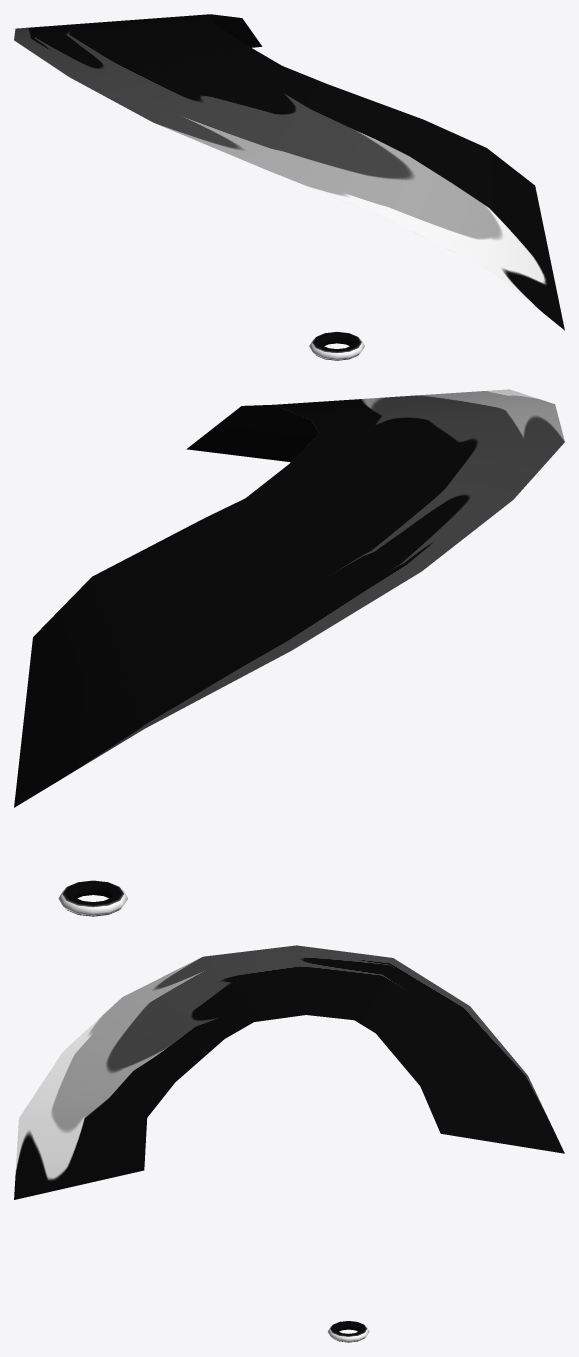
File: Slash.FBX
3 renders of one model, top to bottom at view 1: azimuth 30°, elevation 25°; view 2: azimuth 150°, elevation 25°; view 3: azimuth 270°, elevation 25°, orthographic. The views are drawn at different scales.
Visible parts, largest first — view 1: Slash_, Torus001; view 2: Slash_, Torus001; view 3: Slash_, Torus001.
Part boxes in pixels (left/top/right/bottom): Slash_: left=14, top=14, right=564, bottom=330; Torus001: left=309, top=332, right=364, bottom=360; Slash_: left=14, top=389, right=564, bottom=807; Torus001: left=58, top=880, right=127, bottom=916; Slash_: left=14, top=945, right=564, bottom=1199; Torus001: left=327, top=1321, right=369, bottom=1342.
Size of the model in its own units: 340 by 332 by 595.
